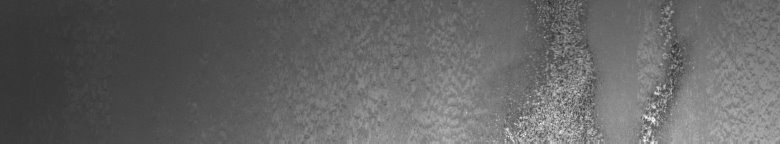hc: (506, 7, 680, 136)
